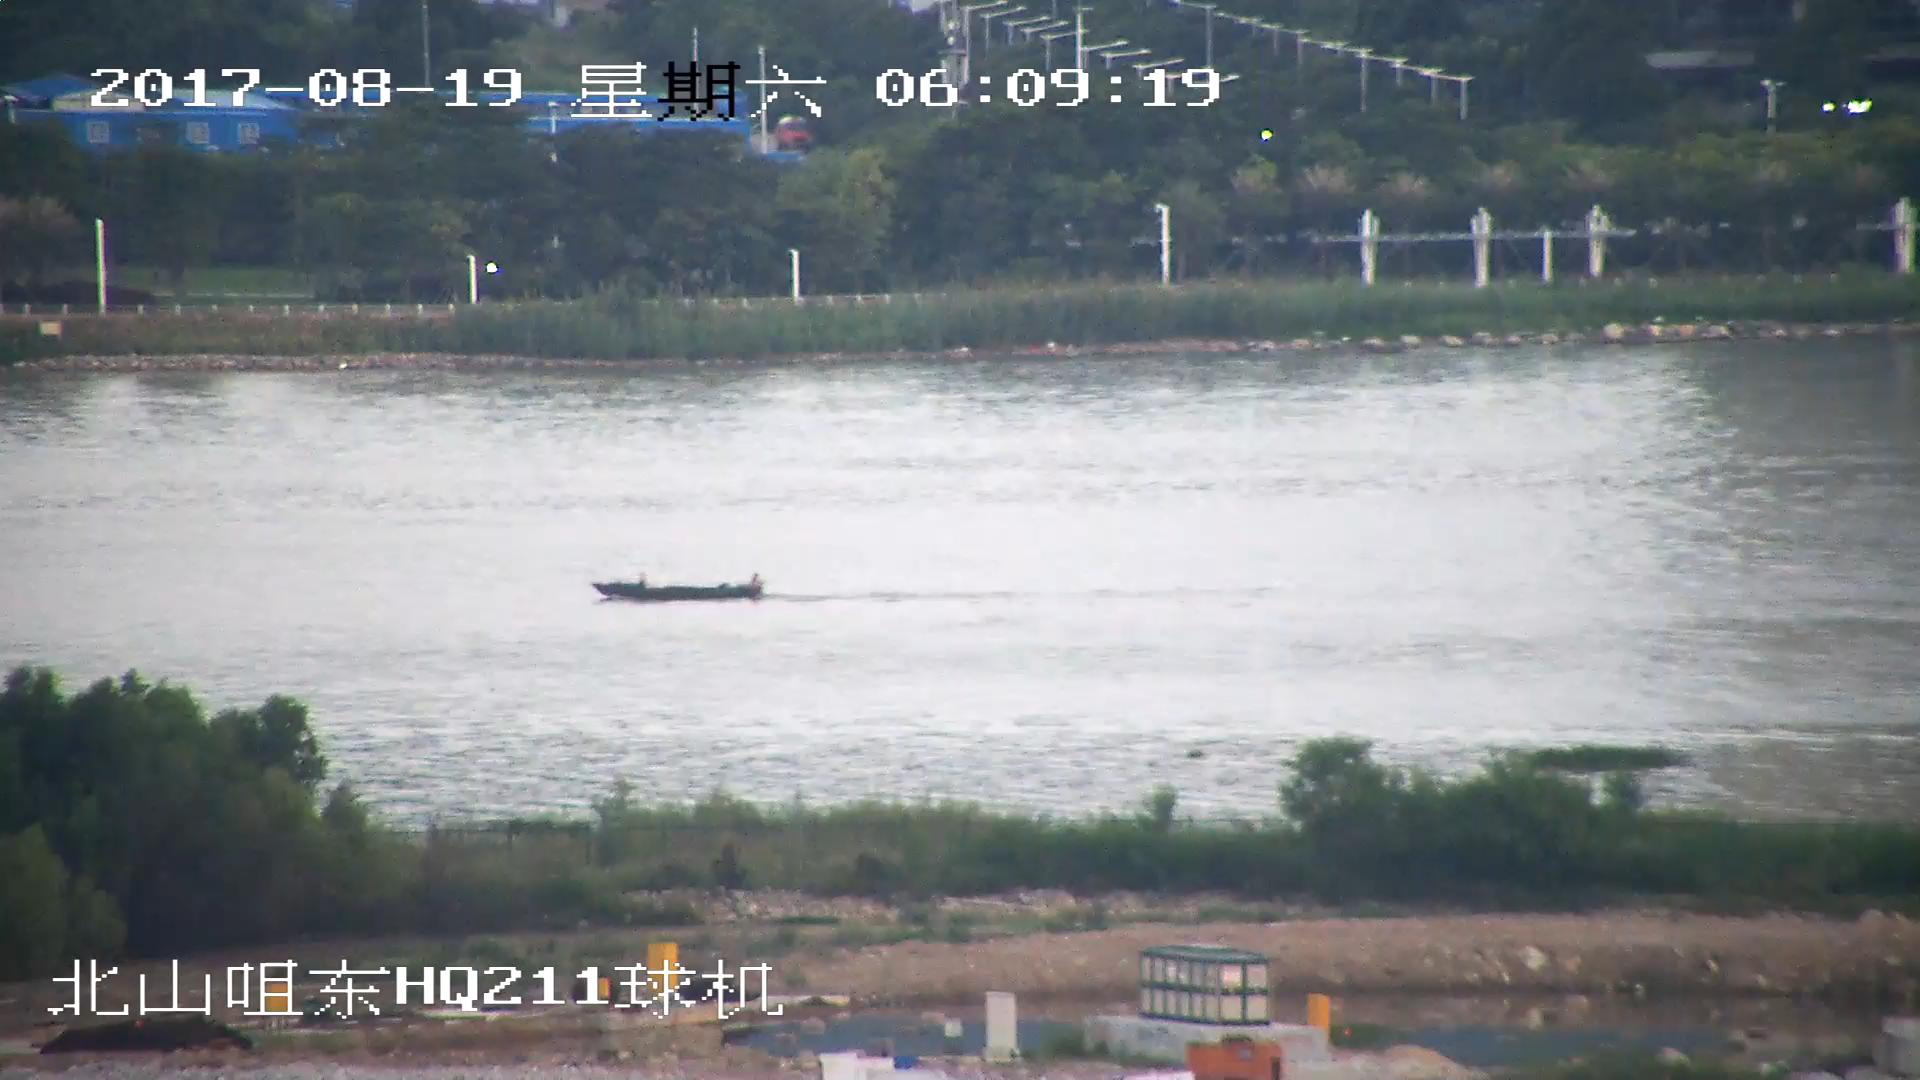fishing boat: (590, 567, 761, 604)
